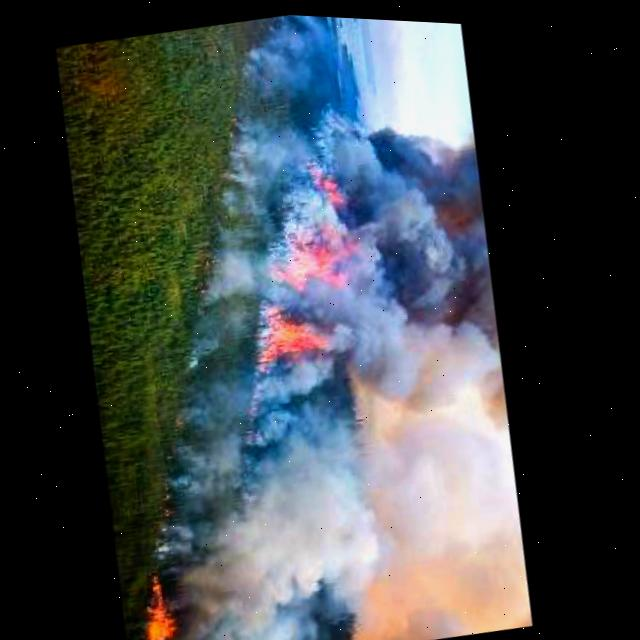Fire: (260, 210, 387, 299), (251, 285, 351, 375), (138, 565, 206, 640), (298, 145, 364, 216)
Smoke: (166, 370, 544, 640), (330, 109, 524, 405), (244, 345, 355, 421)
